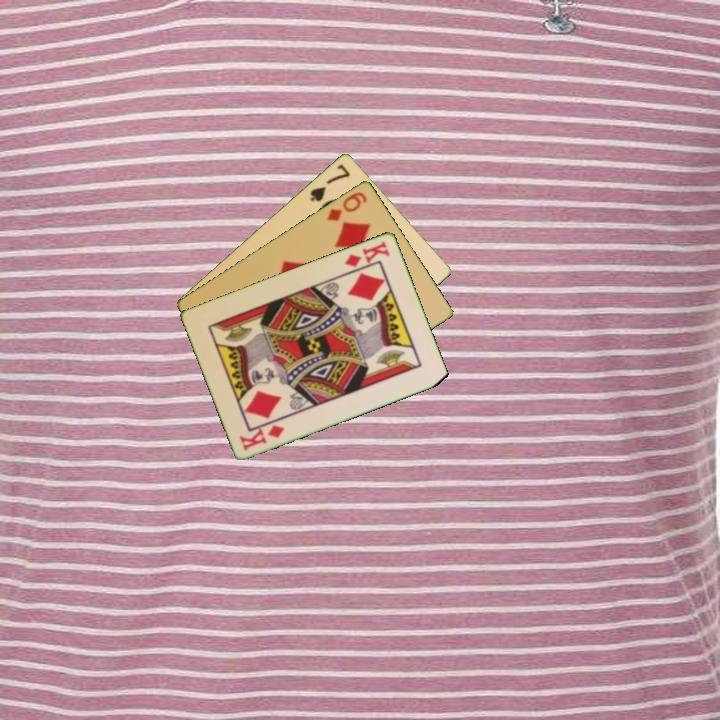6d: (324, 188, 370, 224)
7s: (307, 160, 353, 204)
Kd: (341, 237, 393, 269), (236, 421, 287, 453)
